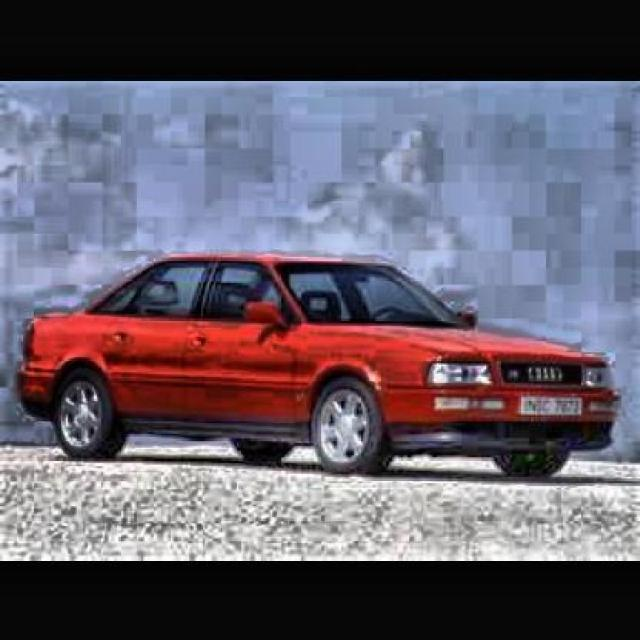maroon: (21, 250, 625, 470)
